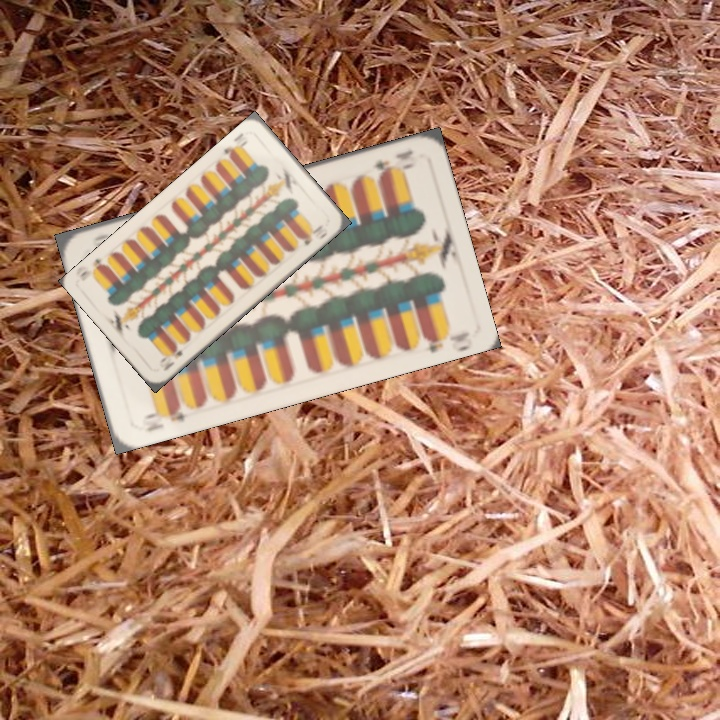E10: (137, 400, 191, 435), (368, 145, 417, 179), (155, 343, 186, 374), (220, 136, 250, 161)
